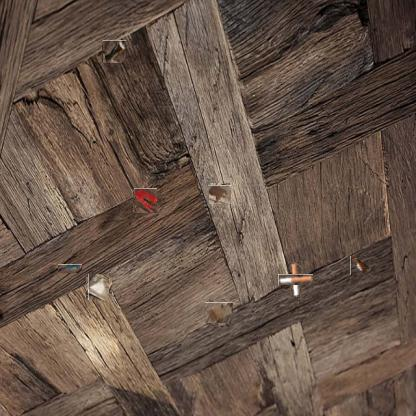dirty: (207, 301, 232, 325), (102, 40, 126, 63), (87, 276, 111, 299), (284, 268, 307, 291), (350, 255, 371, 275), (58, 264, 82, 273)
liquid: (134, 188, 158, 213), (210, 184, 231, 205)
